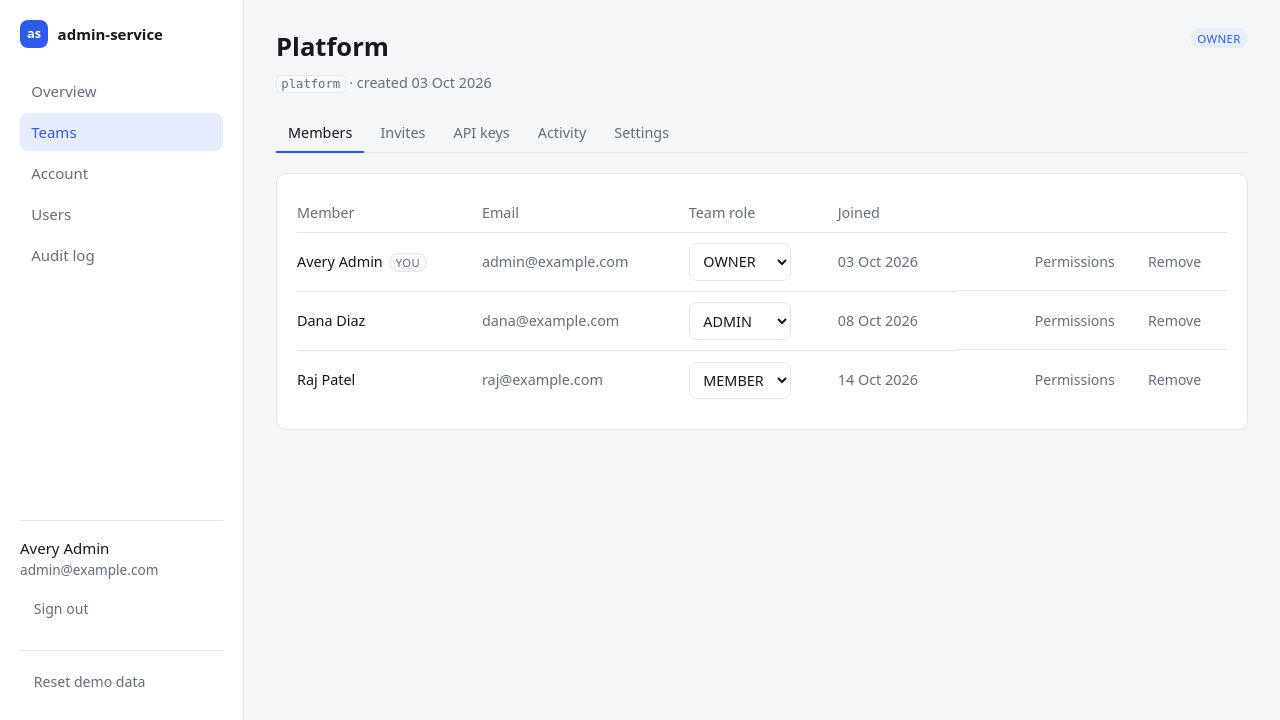
Scenario: managing members › explains why the last owner cannot be demoted
Select "MEMBER" in the dropdown named "Team role for Avery Admin" at (740, 262), box [689, 243, 791, 281]
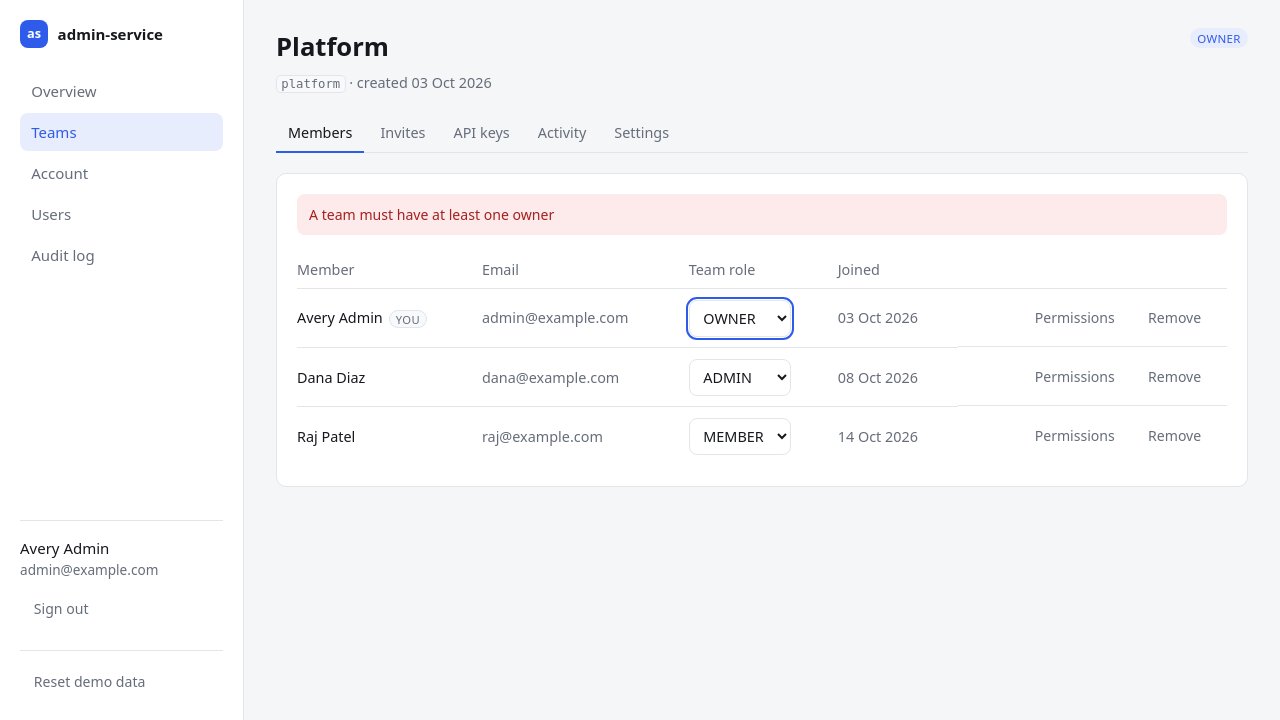
Result: the message reads "A team must have at least one owner" at [309, 205, 554, 224]
